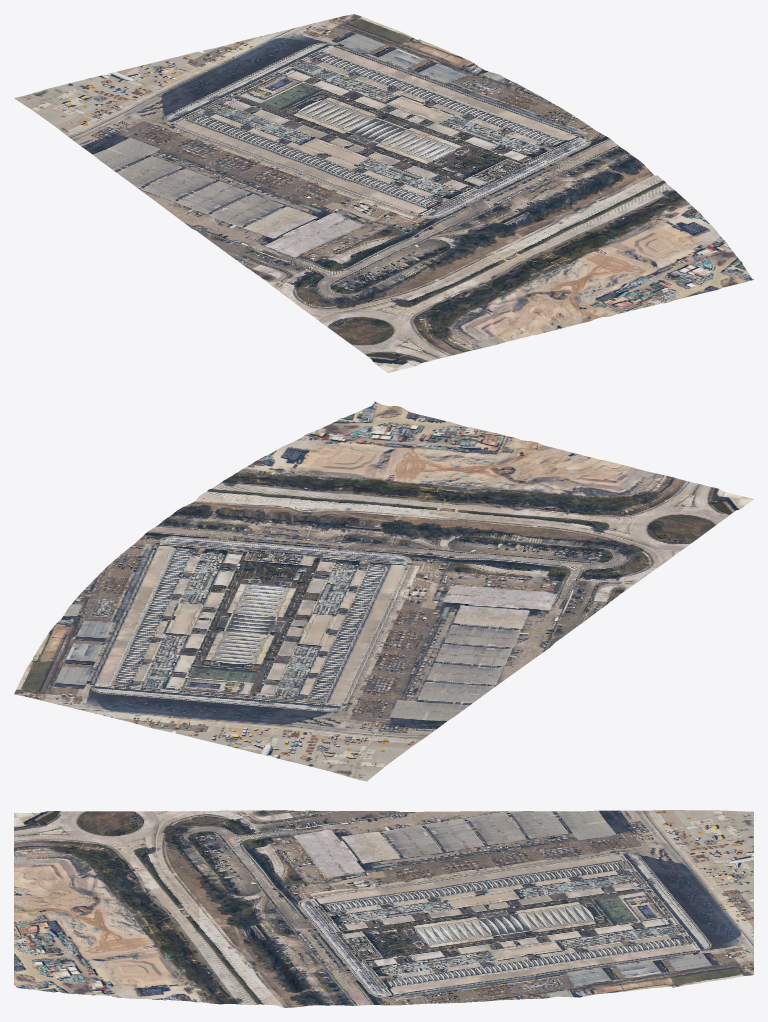
The model's file is terrain_07.glb.
3 views of the same model, one above another, from view 1: azimuth 30°, elevation 25°; view 2: azimuth 150°, elevation 25°; view 3: azimuth 270°, elevation 25° (orthographic). The views are drawn at different scales.
Parts seen in each view (by area): view 1: T10500174000106E11.001; view 2: T10500174000106E11.001; view 3: T10500174000106E11.001.
Boxes of the visible parts, x1,y1,x2,y2 form: T10500174000106E11.001: [14, 14, 753, 372]; T10500174000106E11.001: [14, 401, 753, 781]; T10500174000106E11.001: [14, 810, 753, 1007].
Bounding box in the file's own units: 374 × 9.72 × 600.
1 material, 1 textured.
